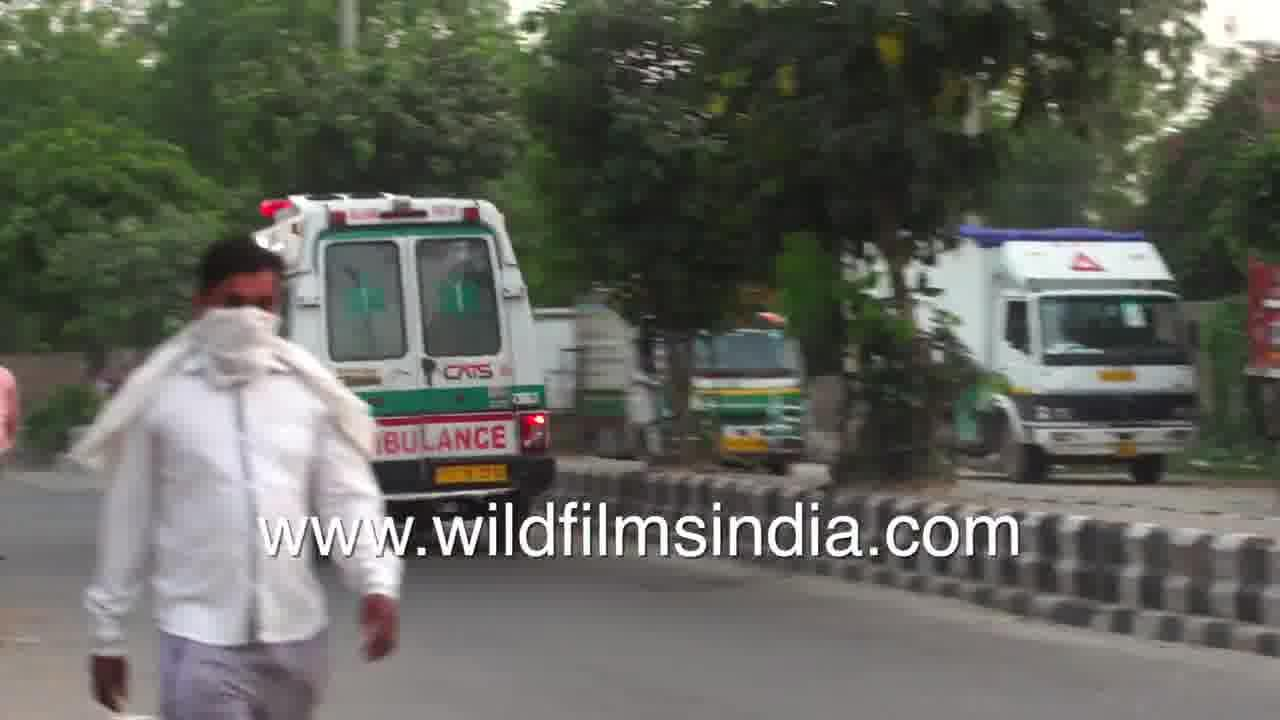AMBULANCE: (283, 168, 580, 490)
